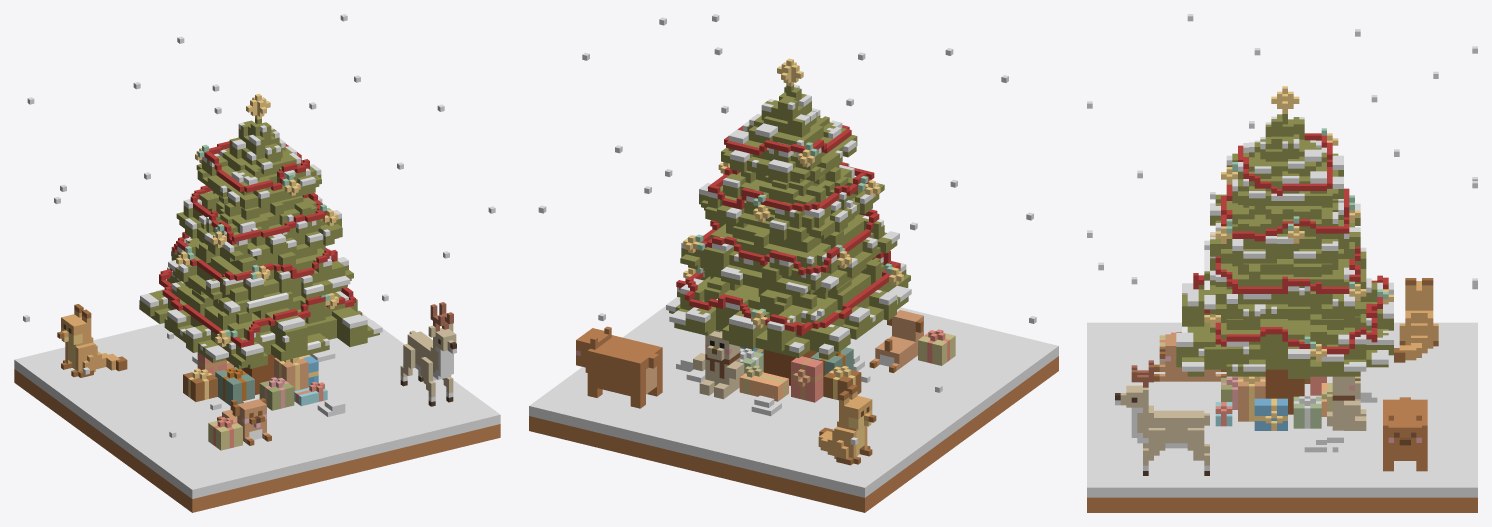
The model's file is Tree7.glb.
3 views of the same model, side by side, from view 1: azimuth 30°, elevation 25°; view 2: azimuth 150°, elevation 25°; view 3: azimuth 270°, elevation 25° (orthographic). The views are drawn at different scales.
Parts seen in each view (by area): view 1: Tree7:Mesh; view 2: Tree7:Mesh; view 3: Tree7:Mesh.
Part boxes in pixels (bbox=[...]): Tree7:Mesh: bbox=[14, 14, 500, 512]; Tree7:Mesh: bbox=[529, 14, 1058, 512]; Tree7:Mesh: bbox=[1087, 14, 1477, 512].
Bounding box in the file's own units: 3.99 × 3.99 × 3.99.
1 material, 1 textured.
